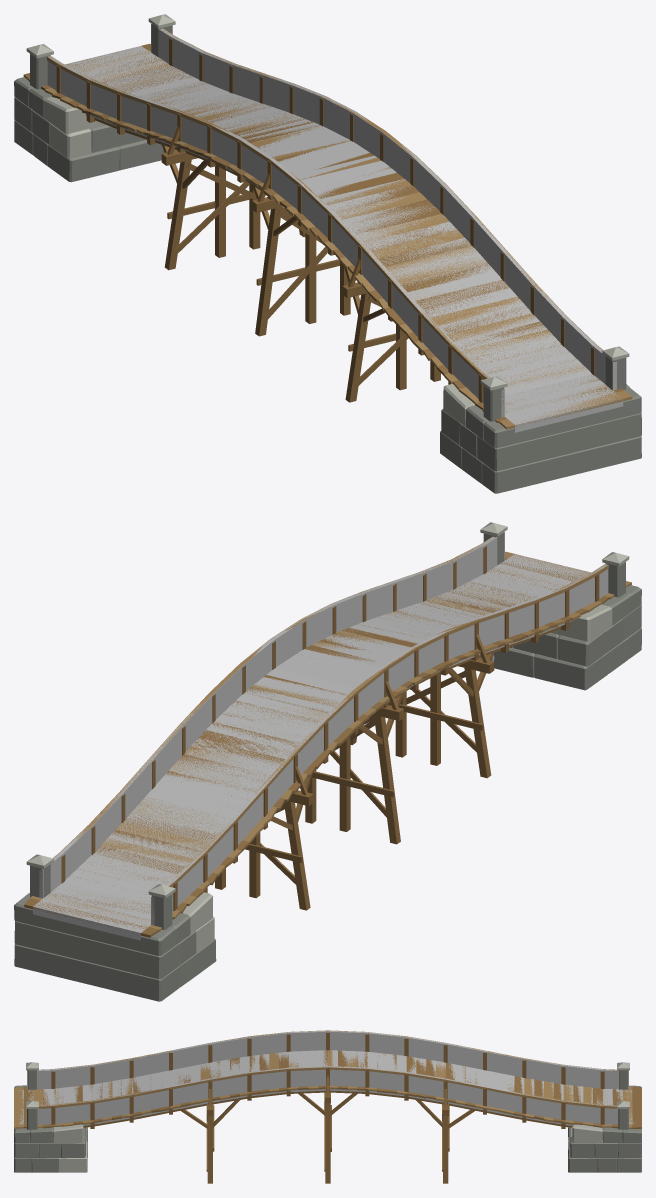
File: ponte_rio_low_poly.glb
The picture shows the model from 3 angles, top to bottom: view 1: azimuth 30°, elevation 25°; view 2: azimuth 150°, elevation 25°; view 3: azimuth 270°, elevation 25°; orthographic projection. The views are drawn at different scales.
Visible parts, largest first — view 1: Ponte_rio_low_poly, Colisao; view 2: Ponte_rio_low_poly, Colisao; view 3: Colisao, Ponte_rio_low_poly.
Part boxes in pixels (box(x1,y1,x2,y2)): Ponte_rio_low_poly: box(14, 14, 641, 493); Colisao: box(47, 24, 623, 432); Ponte_rio_low_poly: box(14, 522, 641, 1001); Colisao: box(33, 532, 608, 940); Colisao: box(19, 1030, 633, 1125); Ponte_rio_low_poly: box(14, 1030, 641, 1183).
Size of the model in its own units: 6 by 6.7 by 34.
